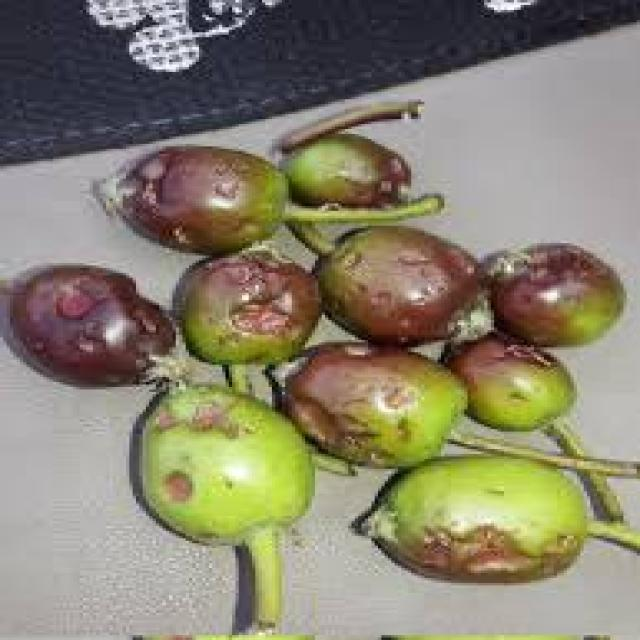Olive Fruit Fly: (127, 380, 312, 545), (358, 456, 590, 580), (282, 342, 464, 466), (0, 263, 172, 388), (96, 146, 288, 253), (318, 226, 481, 342), (172, 241, 318, 365), (481, 243, 620, 345), (444, 332, 570, 429), (285, 131, 408, 203)
